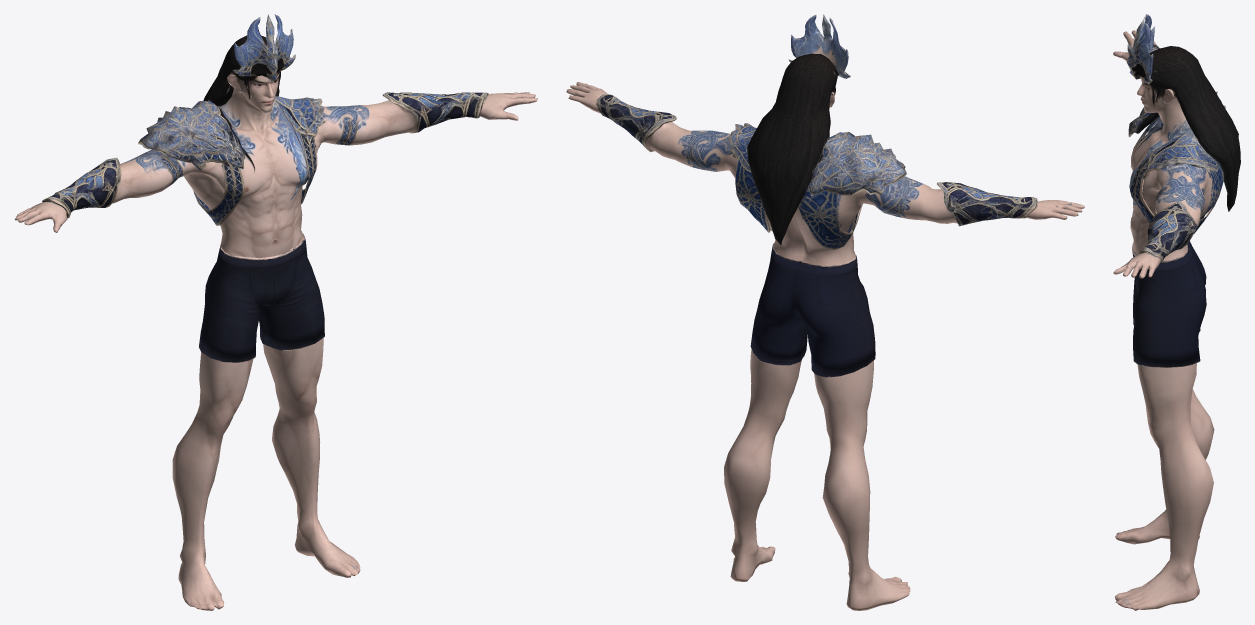
The model's file is thuy_tinh_v2_mesh.fbx.
3 views of the same model, side by side, from view 1: azimuth 30°, elevation 25°; view 2: azimuth 150°, elevation 25°; view 3: azimuth 270°, elevation 25° (orthographic). The views are drawn at different scales.
Visible parts, largest first — view 1: Mesh_0; view 2: Mesh_0; view 3: Mesh_0.
Part boxes in pixels (bbox=[...]): Mesh_0: bbox=[14, 14, 537, 610]; Mesh_0: bbox=[566, 14, 1084, 610]; Mesh_0: bbox=[1113, 14, 1240, 610].
Size of the model in its own units: 94.99 by 100 by 20.92.
Materials: 1 (1 with a texture image).
